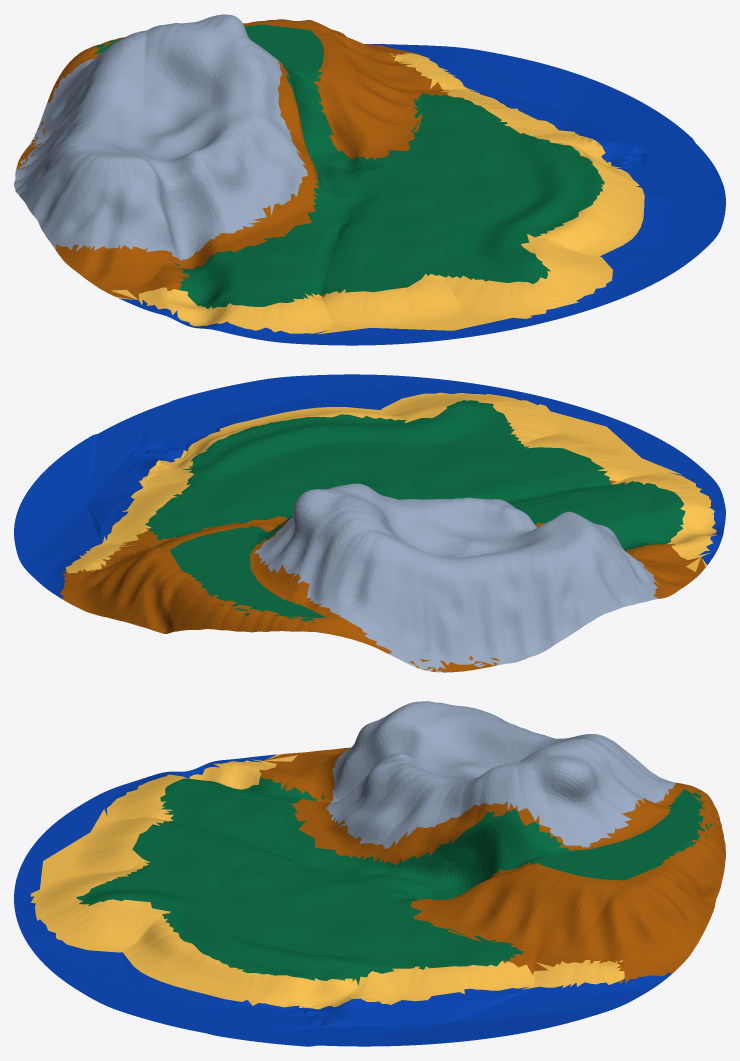
The model's file is Rybridge.fbx.
3 renders of one model, top to bottom at view 1: azimuth 30°, elevation 25°; view 2: azimuth 150°, elevation 25°; view 3: azimuth 270°, elevation 25°, orthographic.
Visible parts, largest first — view 1: Cube; view 2: Cube; view 3: Cube.
Boxes of the visible parts, x1,y1,x2,y2 form: Cube: (14,14,725,345); Cube: (14,374,725,672); Cube: (14,701,725,1046).
Bounding box in the file's own units: 27.88 × 5.44 × 28.36.
